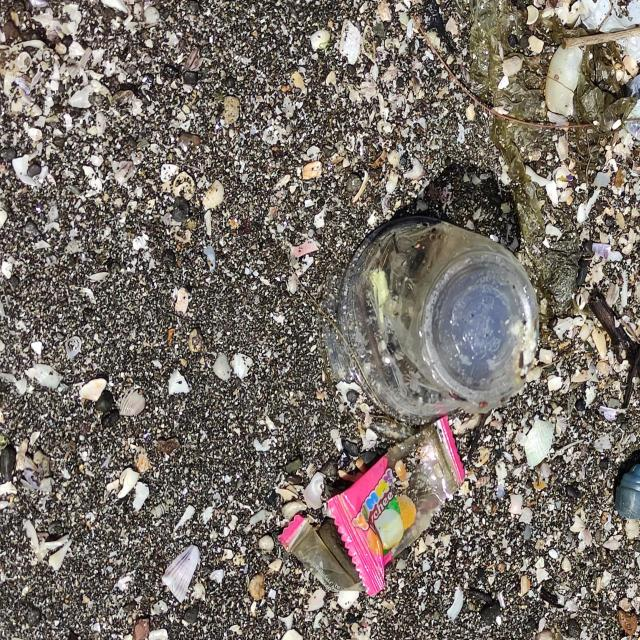plastic_waste: (326, 213, 544, 423), (280, 413, 472, 598)
